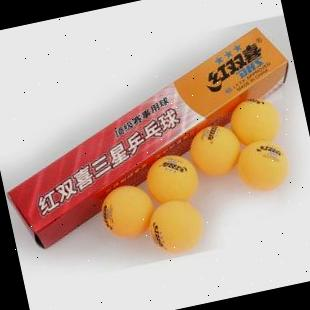ball: (92, 176, 160, 245), (140, 192, 206, 258), (138, 147, 204, 210), (182, 116, 245, 182), (230, 133, 294, 197), (223, 90, 286, 152)
